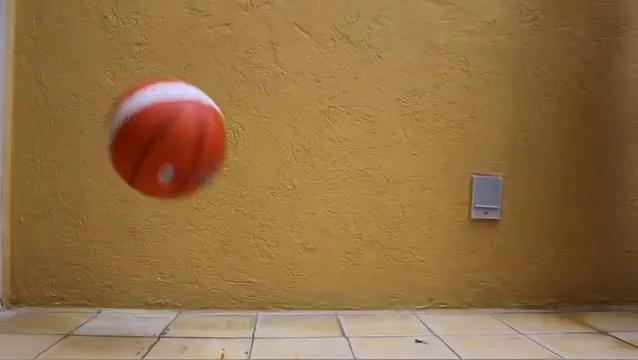ball: (105, 77, 228, 201)
